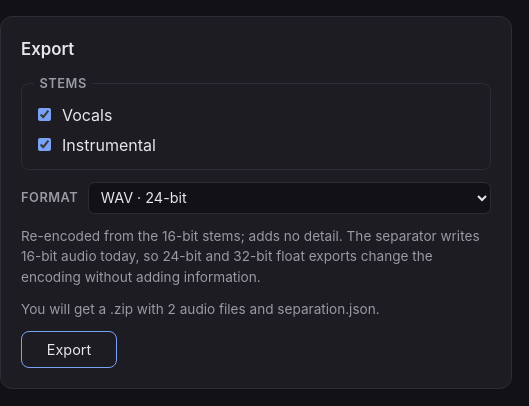
ExportPanel stem selection › re-enables export when a stem is selected again
This screenshot has width=529, height=406.
Click the checkbox labelled "vocals" at [44, 115], box [38, 108, 51, 122]
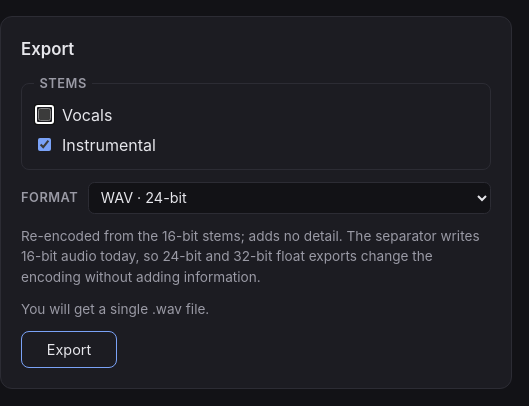
Click the checkbox labelled "instrumental" at [44, 145], box [38, 138, 51, 151]
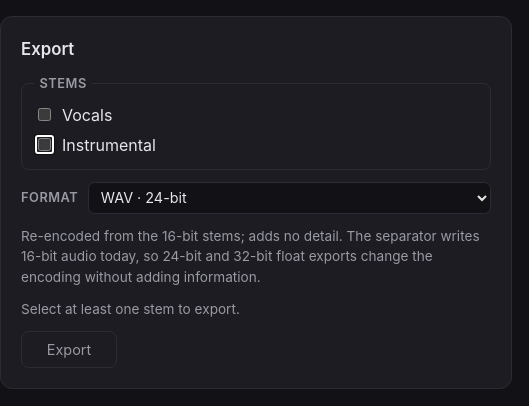
Result: the button "Export" is disabled at [21, 331, 117, 368]
Click the checkbox labelled "vocals" at [44, 115], box [38, 108, 51, 122]
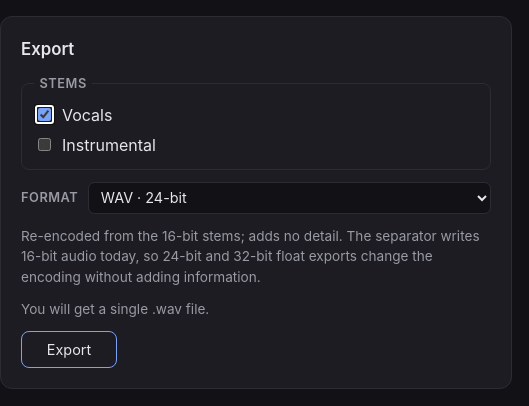
Result: the button "Export" is enabled at [21, 331, 117, 368]
